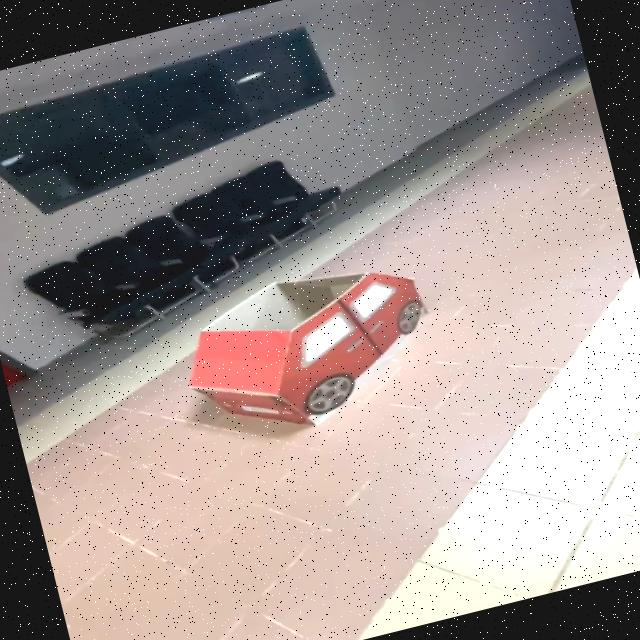red_car: (144, 218, 505, 480)
